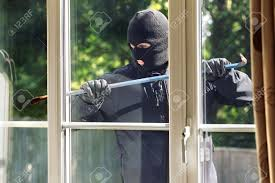crowbar: (30, 52, 249, 107)
